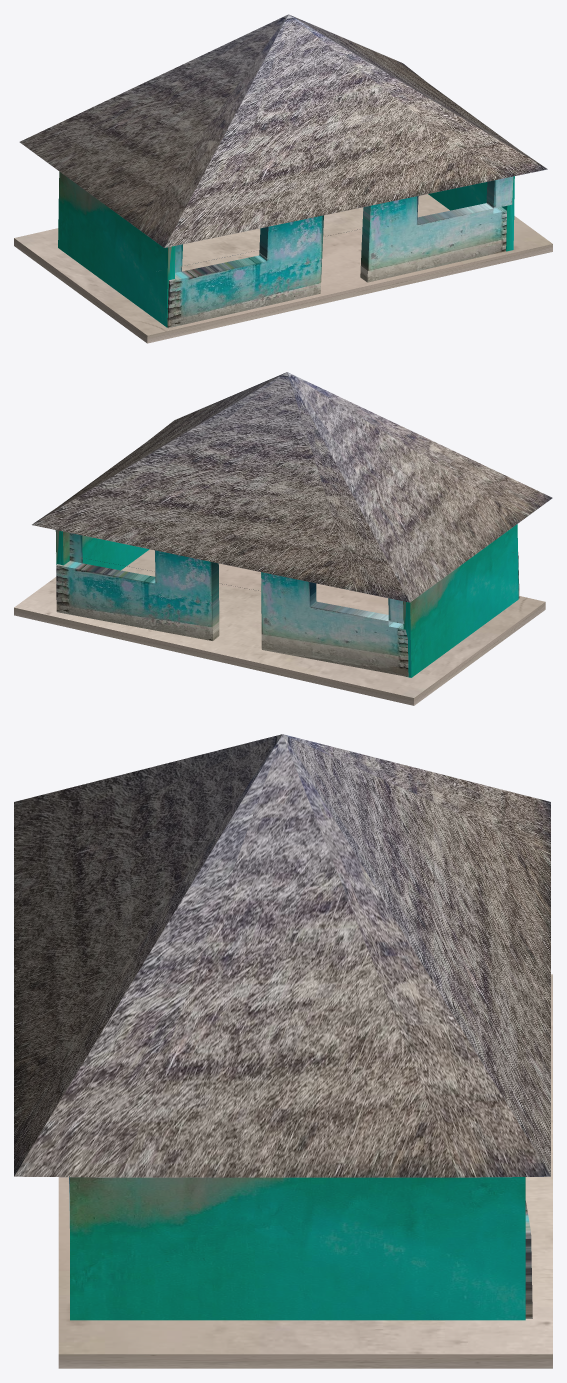
File: prop_hut_b.glb
3 views of the same model, one above another, from view 1: azimuth 30°, elevation 25°; view 2: azimuth 150°, elevation 25°; view 3: azimuth 270°, elevation 25° (orthographic). The views are drawn at different scales.
Visible parts, largest first — view 1: Object_3, Object_4, Object_2, Object_5; view 2: Object_3, Object_4, Object_2, Object_5; view 3: Object_3, Object_5, Object_2, Object_4.
Boxes of the visible parts, x1,y1,x2,y2 form: Object_3: (19,14,547,247); Object_4: (167,62,513,328); Object_2: (14,194,552,343); Object_5: (58,171,514,327); Object_3: (32,372,552,602); Object_4: (56,504,519,676); Object_2: (14,549,545,705); Object_5: (55,524,518,677); Object_3: (14,734,550,1177); Object_5: (70,1177,525,1320); Object_2: (58,974,552,1368); Object_4: (69,1131,532,1318).
Bounding box in the file's own units: 6.12 × 3.5 × 3.8.
Materials: 4 (4 with a texture image).
